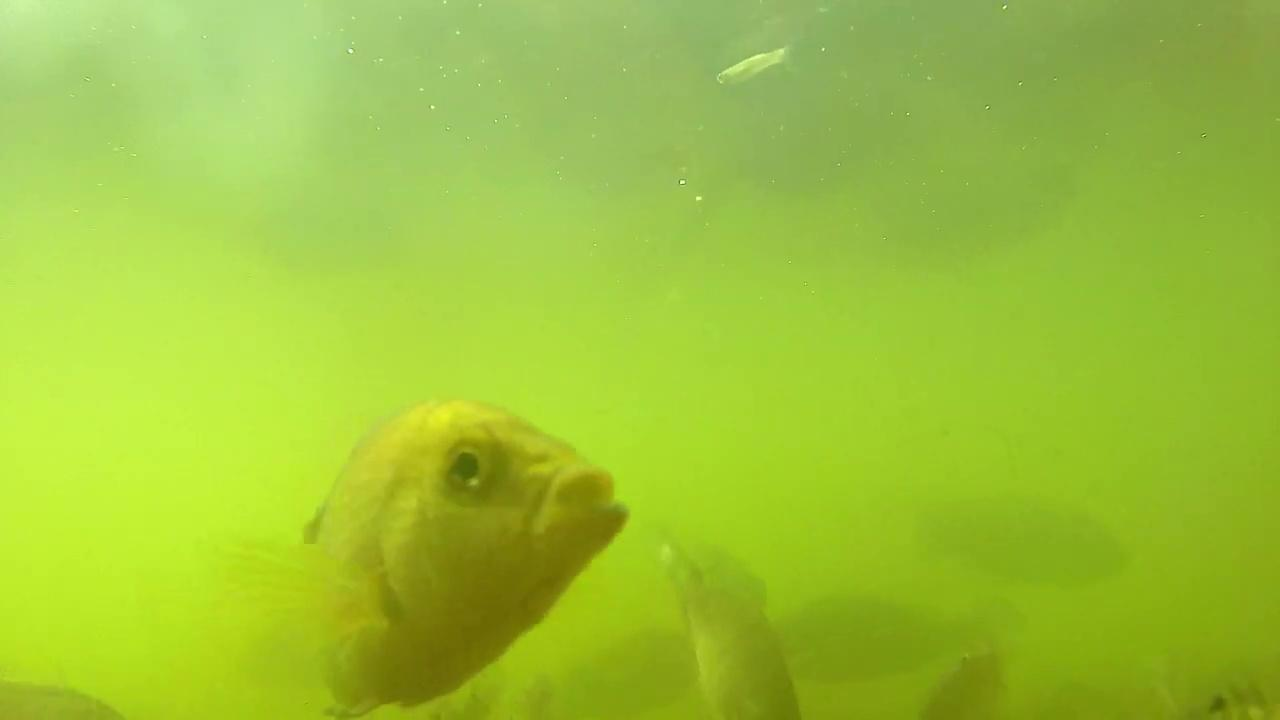Tilapia: (251, 400, 628, 714), (751, 568, 988, 686), (925, 484, 1130, 594)
